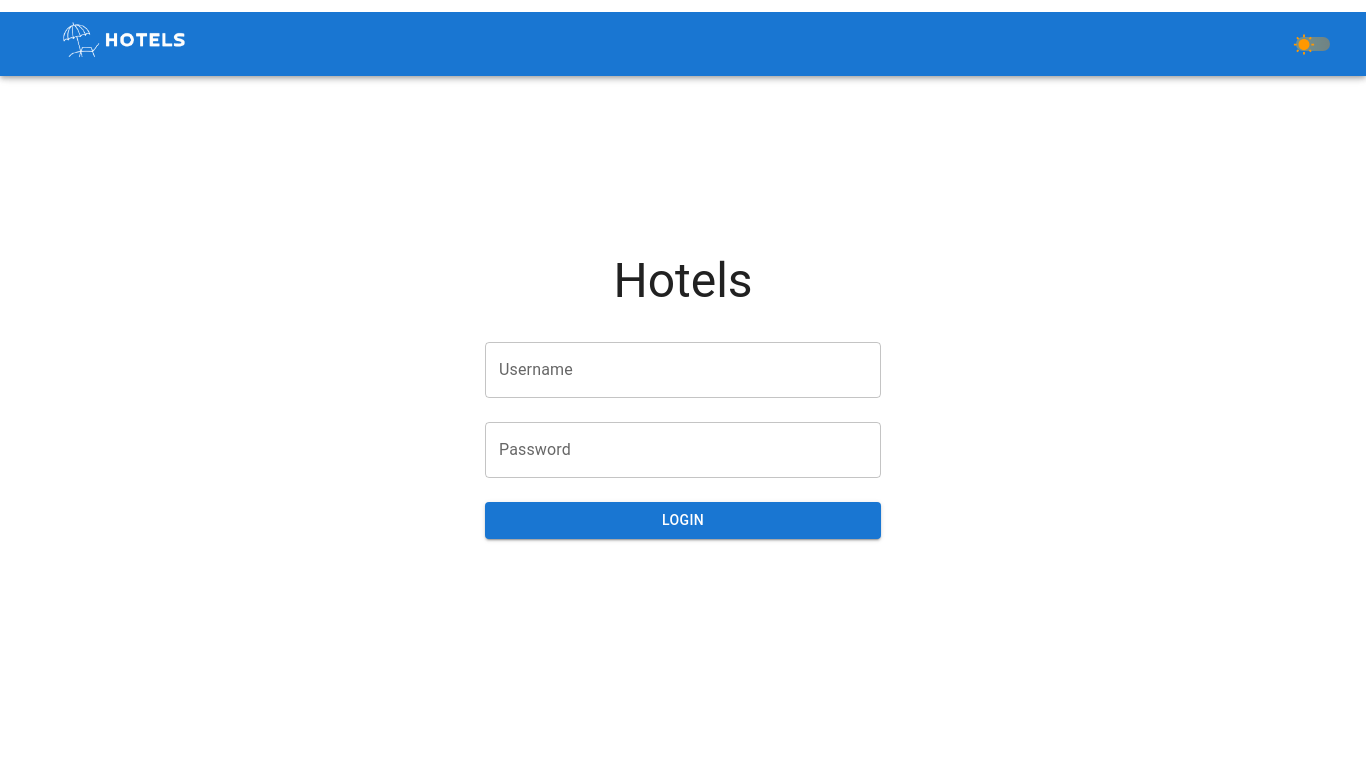
Scenario: Login Component › should show validation error when fields are empty and form is submitted
Click the button "Login" at (683, 520), box [485,502,881,539]
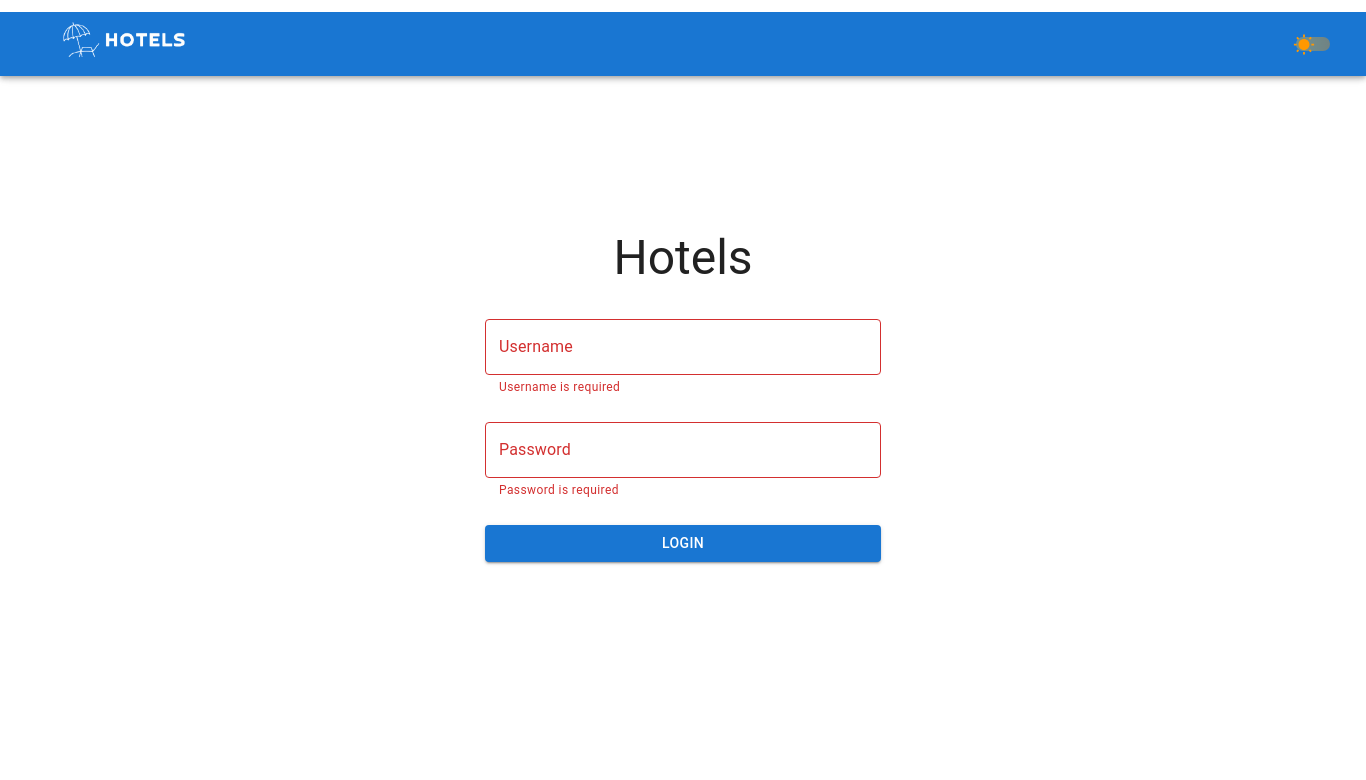
Now the text "Username is required" is shown, box [499,380,620,394]
Now the text "Password is required" is shown, box [499,483,619,497]
